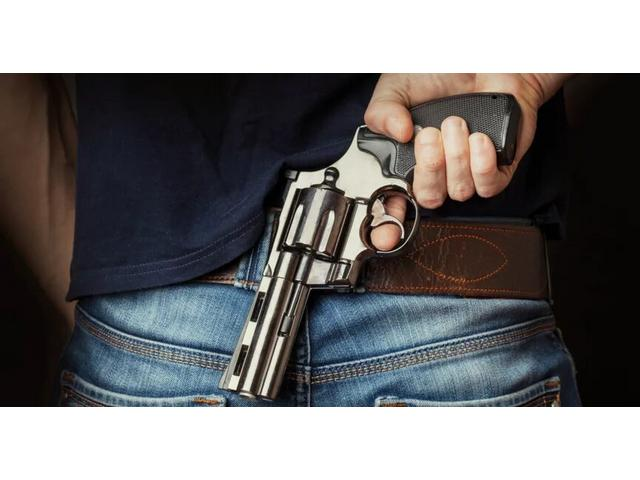pistol: (217, 85, 523, 399)
